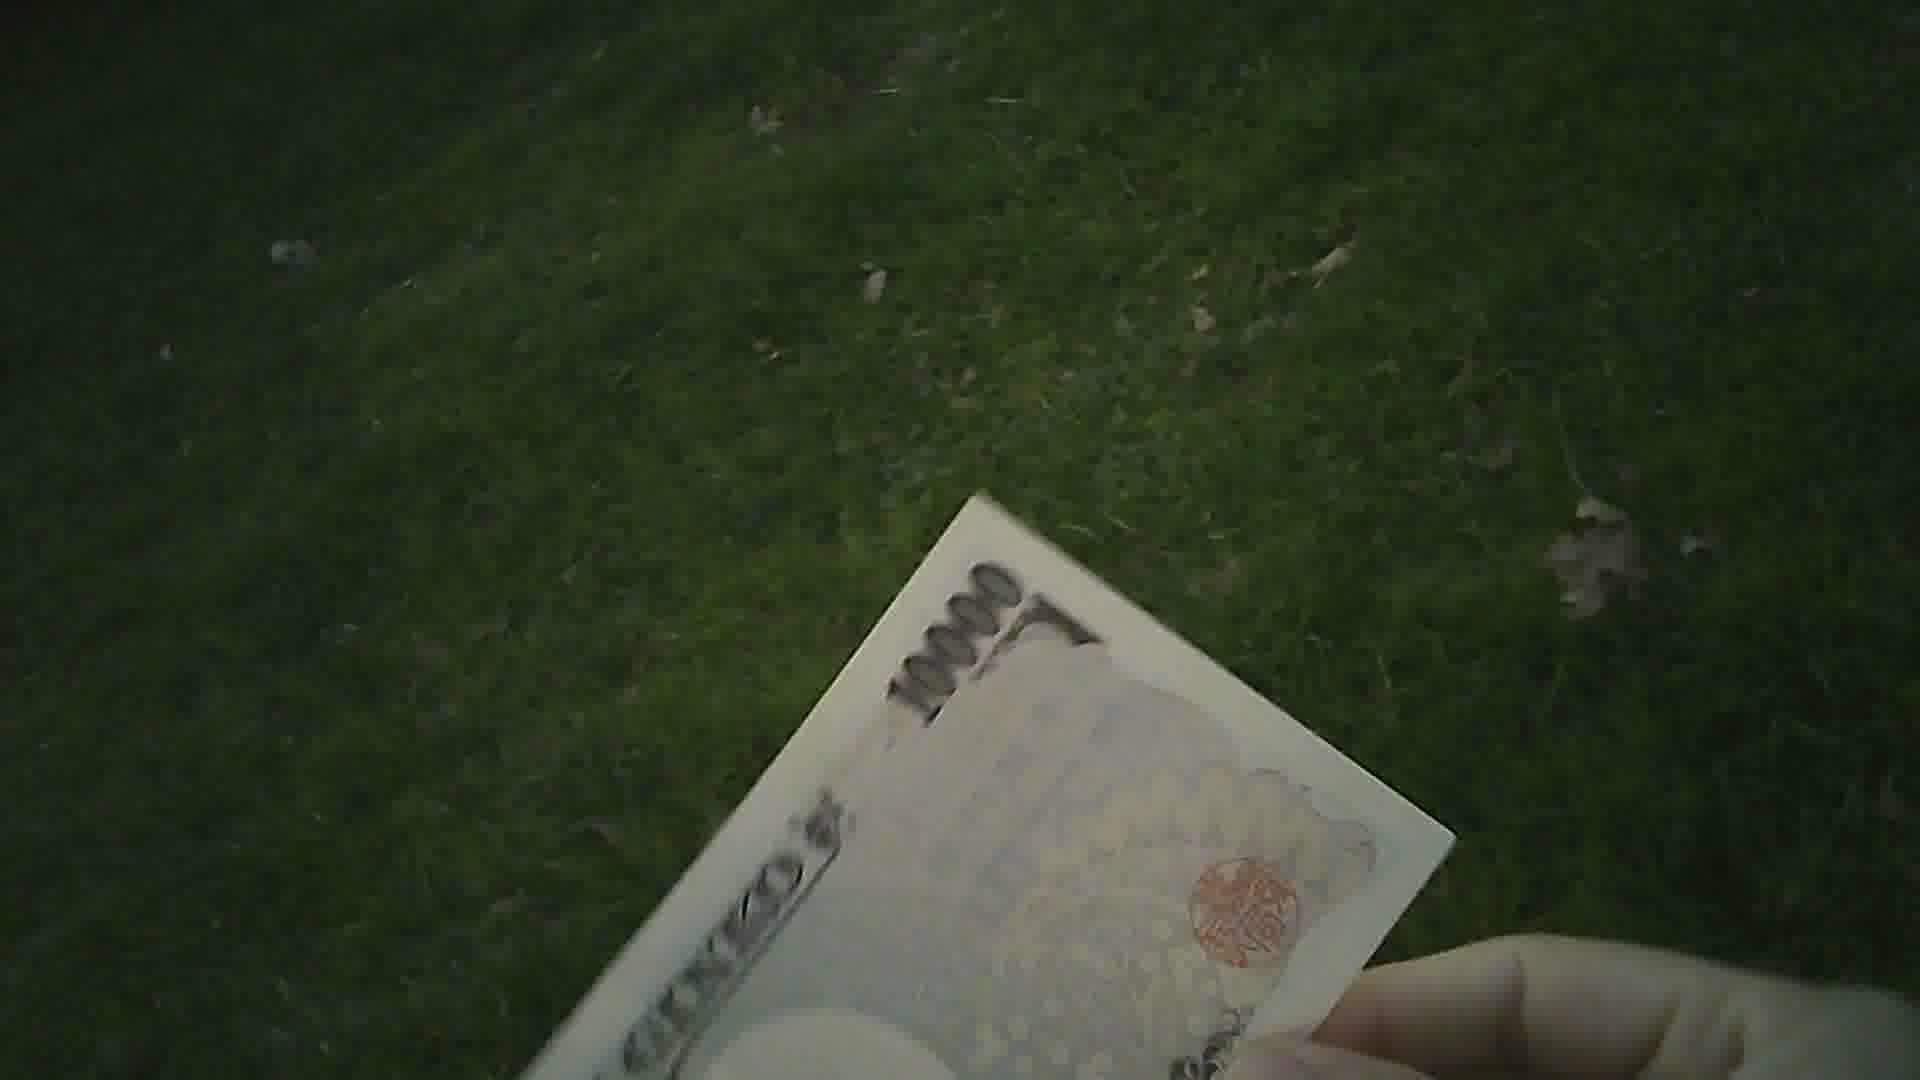10,000 Yen: (513, 492, 1429, 1079)
